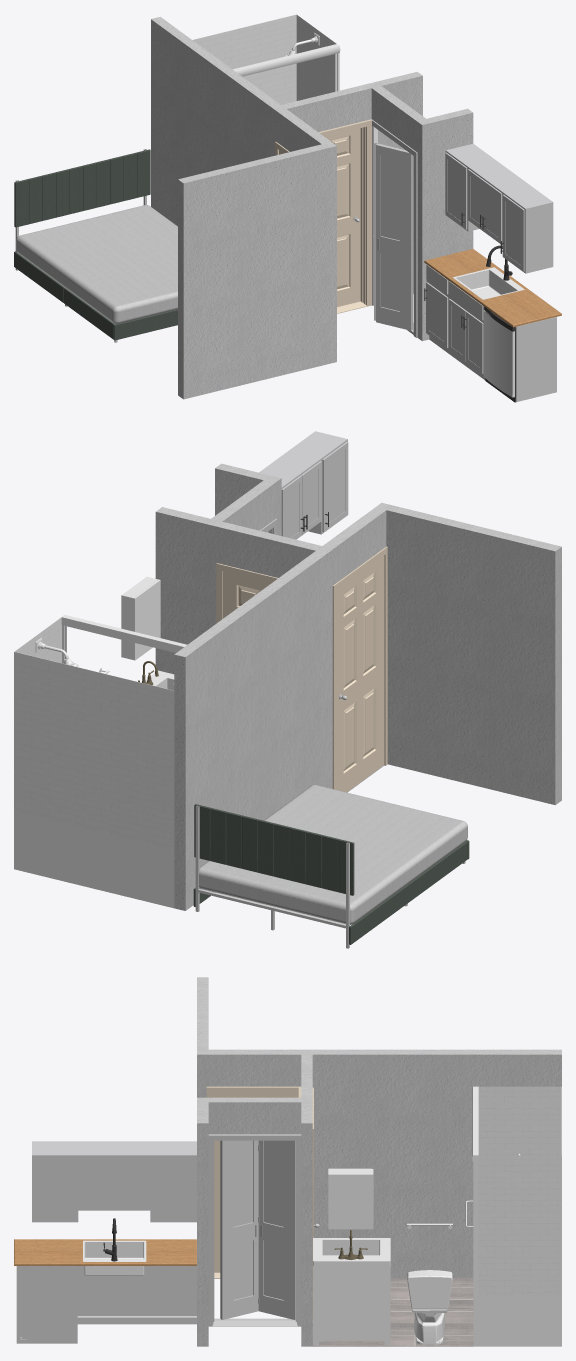
File: interiors.glb
3 renders of one model, top to bottom at view 1: azimuth 30°, elevation 25°; view 2: azimuth 150°, elevation 25°; view 3: azimuth 270°, elevation 25°, orthographic. The views are drawn at different scales.
Parts seen in each view (by area): view 1: GF_interiorwall3, kitchenette_white, bed_white, bed_grey, grey_door, GF_interiorwall1, bathtub_ceramics, wood-door, GF_interiorwall2, kitchenette_metal, kitchenette_wood, bathtub_metal (+1 smaller); view 2: GF_interiorwall3, bathtub_ceramics, bed_white, wood-door, GF_interiorwall2, bed_grey, bathtub, kitchenette_white, GF_interiorwall1, bathtub_metal, bed_metal, mirrorcab_mirror (+1 smaller); view 3: GF_interiorwall3, kitchenette_white, bathtub_ceramics, grey_door, GF_interiorwall1, bathroom_sink, bathtub, bathroom_ground, kitchenette_wood, GF_interiorwall2, mirrorcab_cabinet, bathroom_toilet (+4 smaller).
Boxes of the visible parts, box(x1,y1,x2,y2) form: GF_interiorwall3: box(151, 16, 336, 399); kitchenette_white: box(426, 143, 556, 401); bed_white: box(16, 205, 177, 323); bed_grey: box(14, 149, 177, 340); grey_door: box(371, 119, 417, 337); GF_interiorwall1: box(371, 86, 473, 341); bathtub_ceramics: box(192, 14, 337, 104); wood-door: box(275, 119, 371, 313); GF_interiorwall2: box(281, 71, 422, 293); kitchenette_metal: box(453, 267, 524, 397); kitchenette_wood: box(424, 249, 561, 327); bathtub_metal: box(233, 32, 340, 91); GF_interiorwall3: box(174, 503, 561, 910); bathtub_ceramics: box(14, 617, 174, 850); bed_white: box(199, 785, 467, 924); wood-door: box(216, 546, 387, 792); GF_interiorwall2: box(155, 507, 321, 674); bed_grey: box(193, 804, 469, 944); bathtub: box(14, 811, 174, 908); kitchenette_white: box(259, 431, 348, 539); GF_interiorwall1: box(211, 463, 281, 535); bathtub_metal: box(35, 614, 187, 666); bed_metal: box(195, 805, 465, 948); mirrorcab_mirror: box(136, 580, 160, 659); GF_interiorwall3: box(197, 977, 561, 1277); kitchenette_white: box(16, 1141, 196, 1343); bathtub_ceramics: box(478, 1086, 561, 1295); grey_door: box(208, 1134, 301, 1326); GF_interiorwall1: box(197, 1097, 301, 1346); bathroom_sink: box(313, 1266, 390, 1345); bathtub: box(473, 1296, 561, 1346); bathroom_ground: box(312, 1277, 473, 1346); kitchenette_wood: box(14, 1239, 196, 1265); GF_interiorwall2: box(301, 1054, 312, 1346); mirrorcab_cabinet: box(328, 1169, 373, 1229); bathroom_toilet: box(407, 1270, 452, 1344).
Bounding box in the file's own units: 3.45 × 2.46 × 5.47.
Materials: 25 (9 with a texture image).
